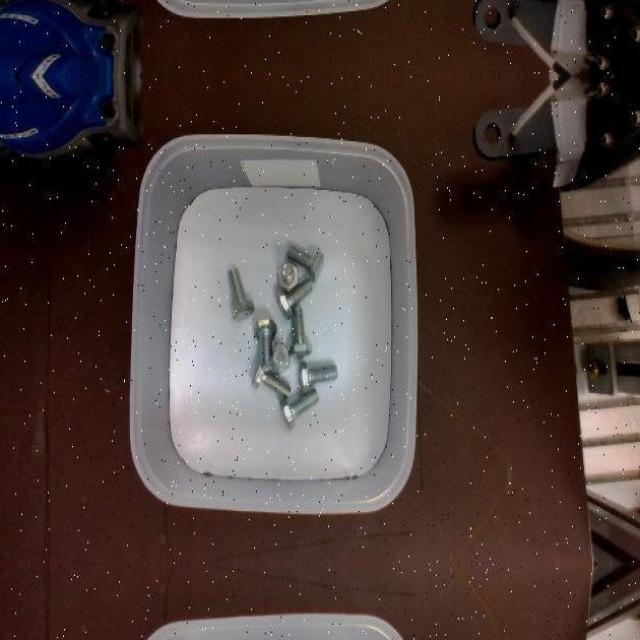screw: (279, 388, 320, 429), (277, 278, 314, 320), (227, 267, 255, 320), (287, 244, 325, 283), (288, 306, 313, 358), (254, 318, 277, 371), (298, 360, 338, 390), (277, 262, 299, 292)
